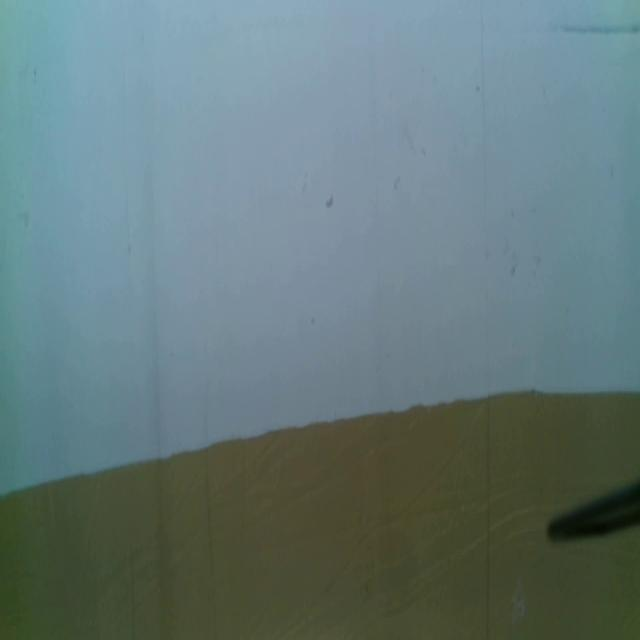crease: (478, 0, 494, 639)
